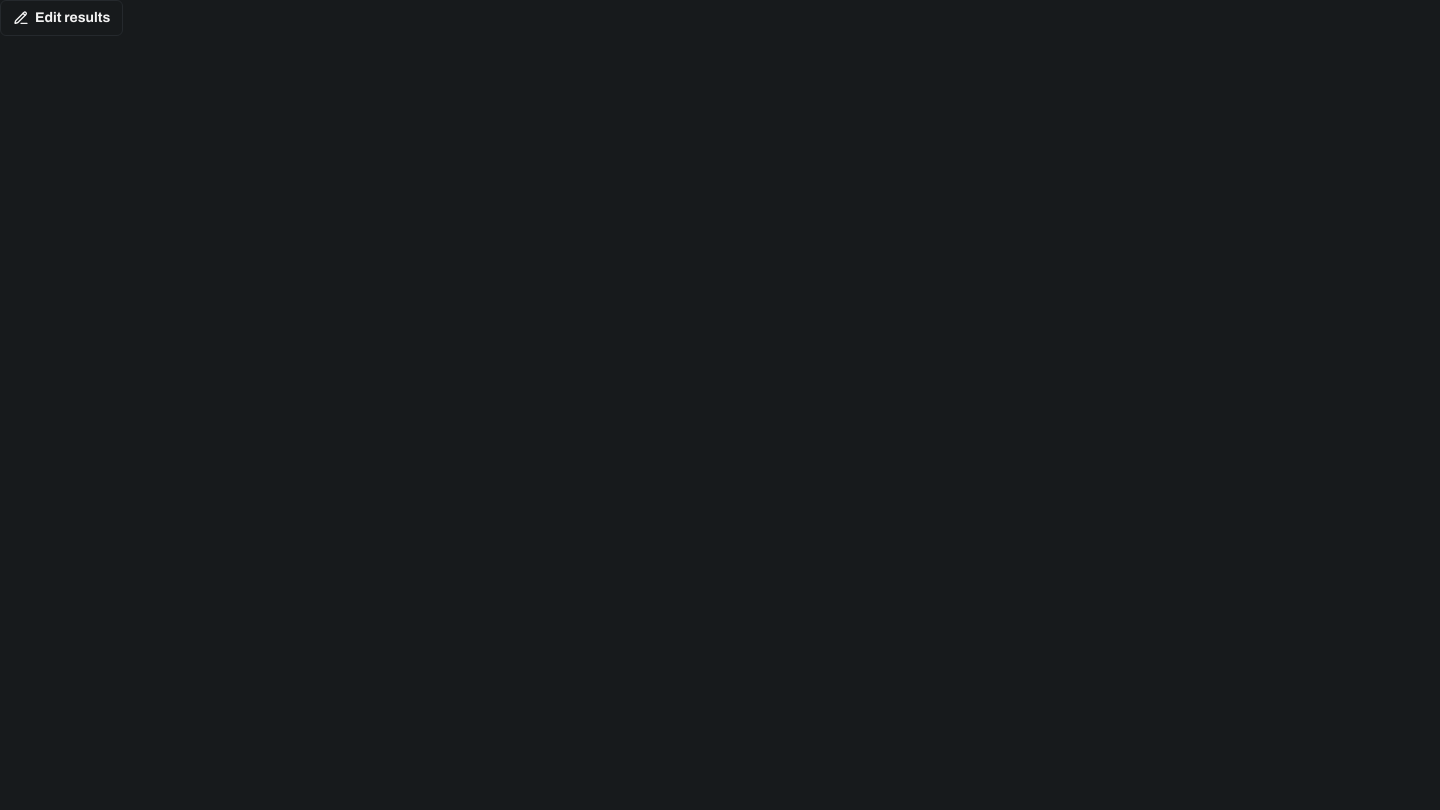
Test: correcting a name in the editor › will not save a blank name
Click the button "Edit results" at (62, 18), box x1=0 y1=0 x2=123 y2=36
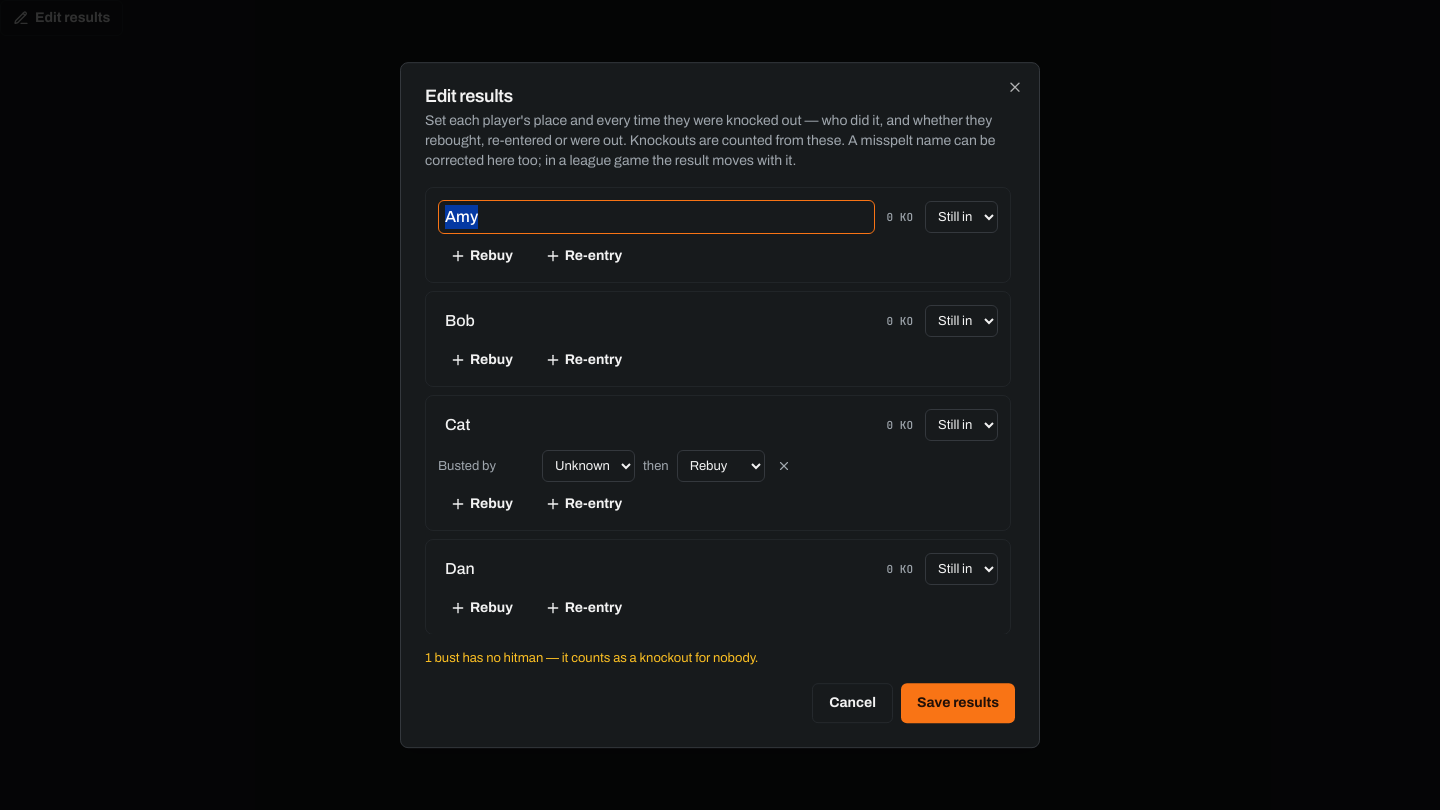
Clear the field named "Name of Dan" at (656, 569), box x1=438 y1=552 x2=875 y2=586
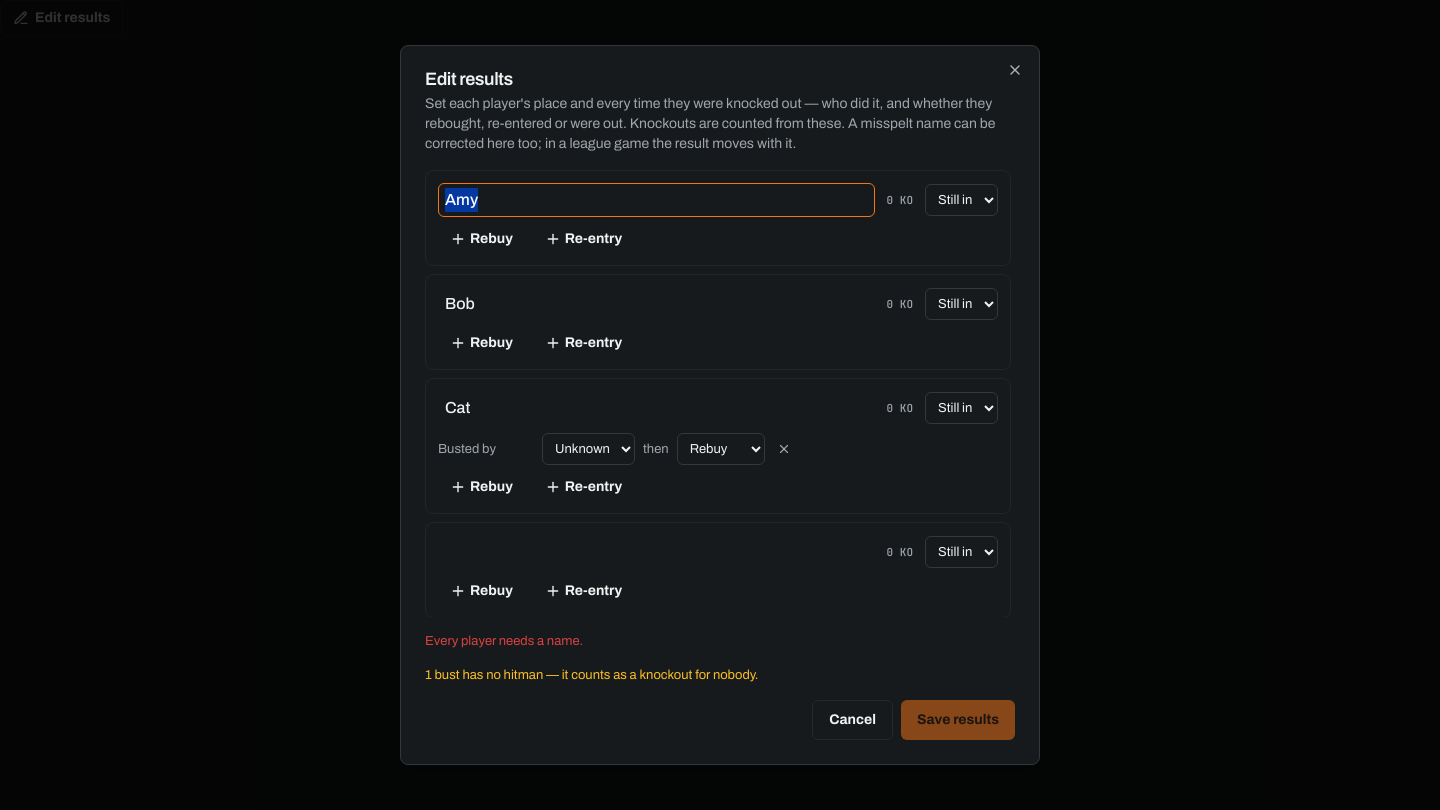
Now the list item "Every player needs a name." is shown, box x1=425 y1=634 x2=583 y2=648
Now the button "Save results" is disabled, box x1=901 y1=700 x2=1015 y2=740
